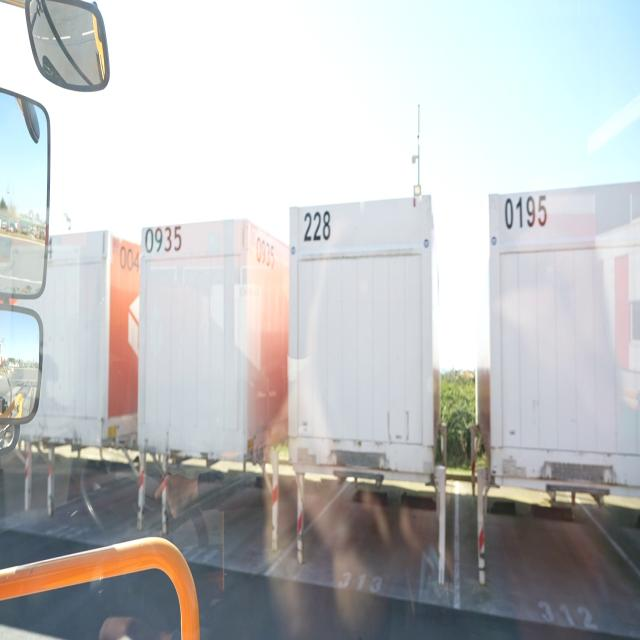Code: (498, 188, 550, 230), (144, 219, 182, 255), (300, 209, 332, 244), (252, 230, 276, 272)
